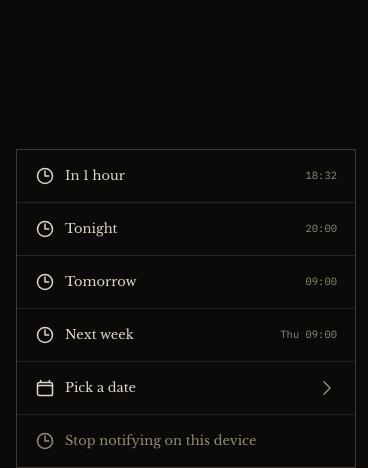
Test: the reminder panel's date picker › offers no month before this one
Click the menu item "Pick a date": {"x": 101, "y": 387} x1=17 y1=361 x2=355 y2=414
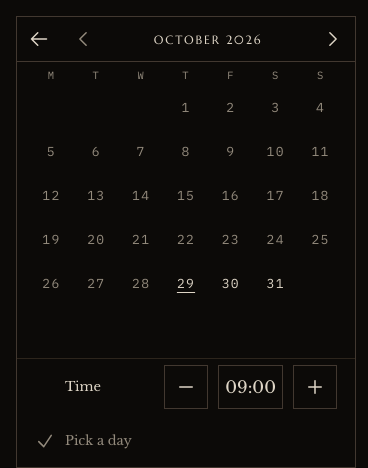
Check: the element named "Day" is shown, box x1=17 y1=86 x2=355 y2=358
Check: the button named "Previous month" is disabled, box x1=61 y1=18 x2=105 y2=62
